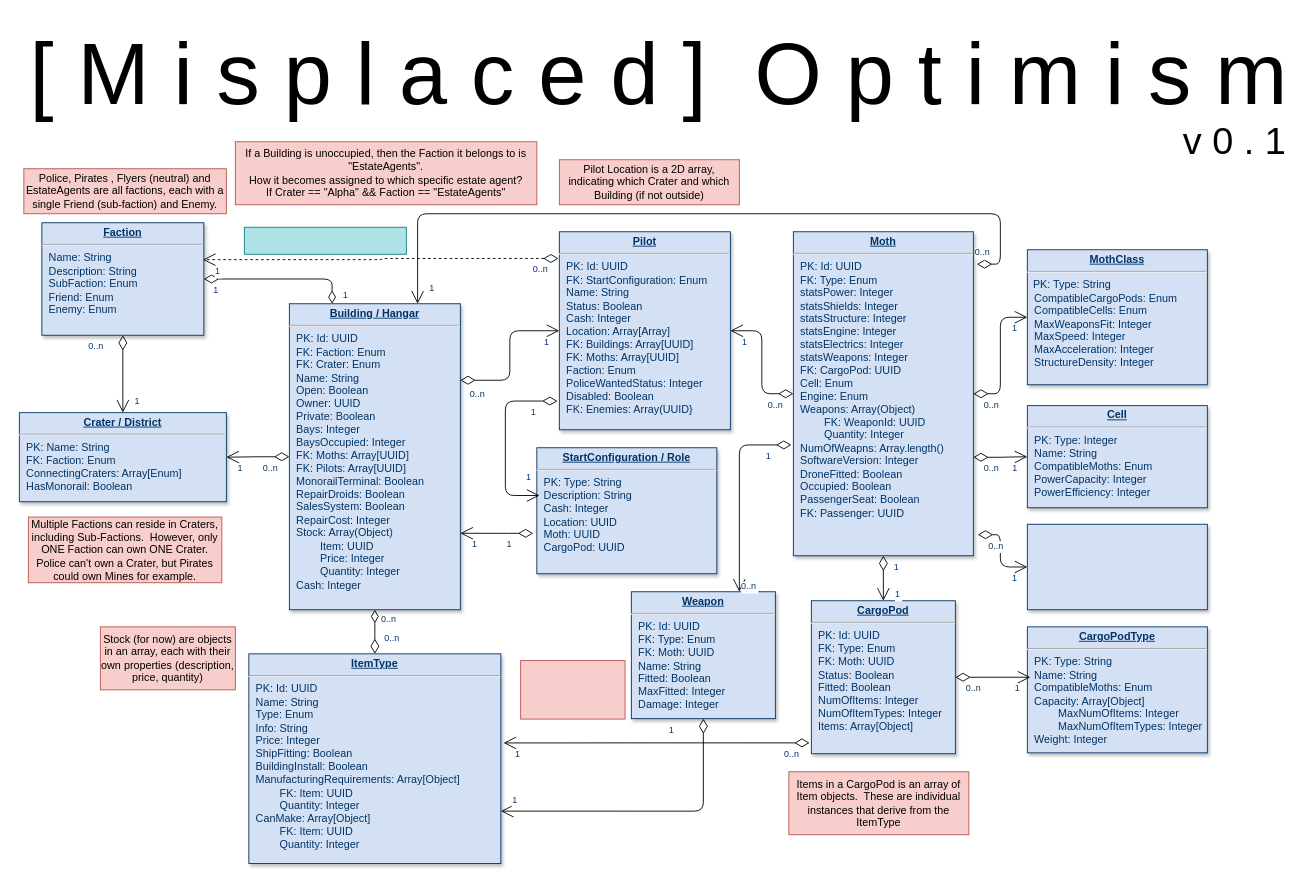
This 1313x886 diagram has some shape labels left out. Here are the shapes that lost their labels. From the top down, the centre of each, then its label:
At (x=324, y=240): "Are Pilots linked to Factions?".
At (x=1118, y=568): "Engine PK: Type: Integer Name: String CompatibleMoths: Enum PowerOutput: Integer".
At (x=572, y=689): "Weapon can be fitted to a specific Moth, with a maximum for each type.".
